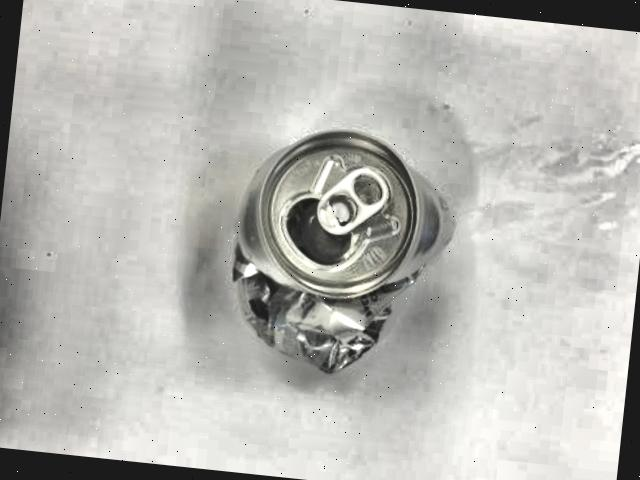Bottles: (193, 98, 471, 390)
